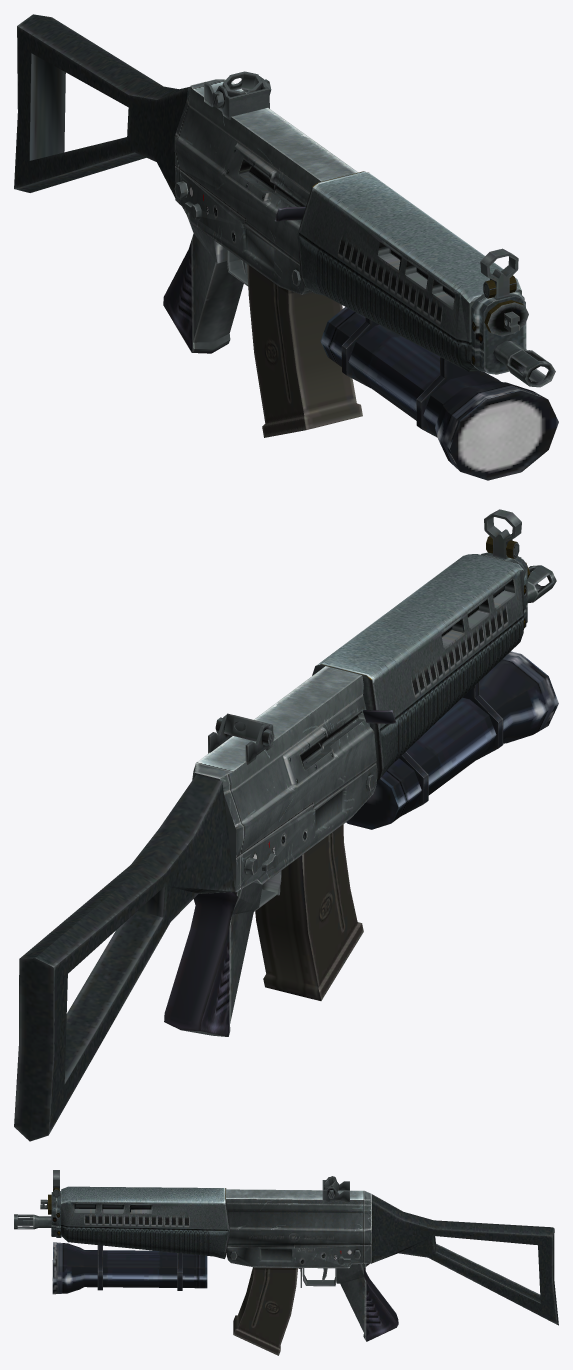
File: sig_obj.FBX
3 views of the same model, one above another, from view 1: azimuth 30°, elevation 25°; view 2: azimuth 150°, elevation 25°; view 3: azimuth 270°, elevation 25° (orthographic). The views are drawn at different scales.
Parts seen in each view (by area): view 1: sig_obj; view 2: sig_obj; view 3: sig_obj.
Part boxes in pixels (<box>): sig_obj: <box>14,14,558,480</box>; sig_obj: <box>14,509,558,1141</box>; sig_obj: <box>14,1170,558,1355</box>.
Size of the model in its own units: 2.6 by 20.15 by 7.2.
